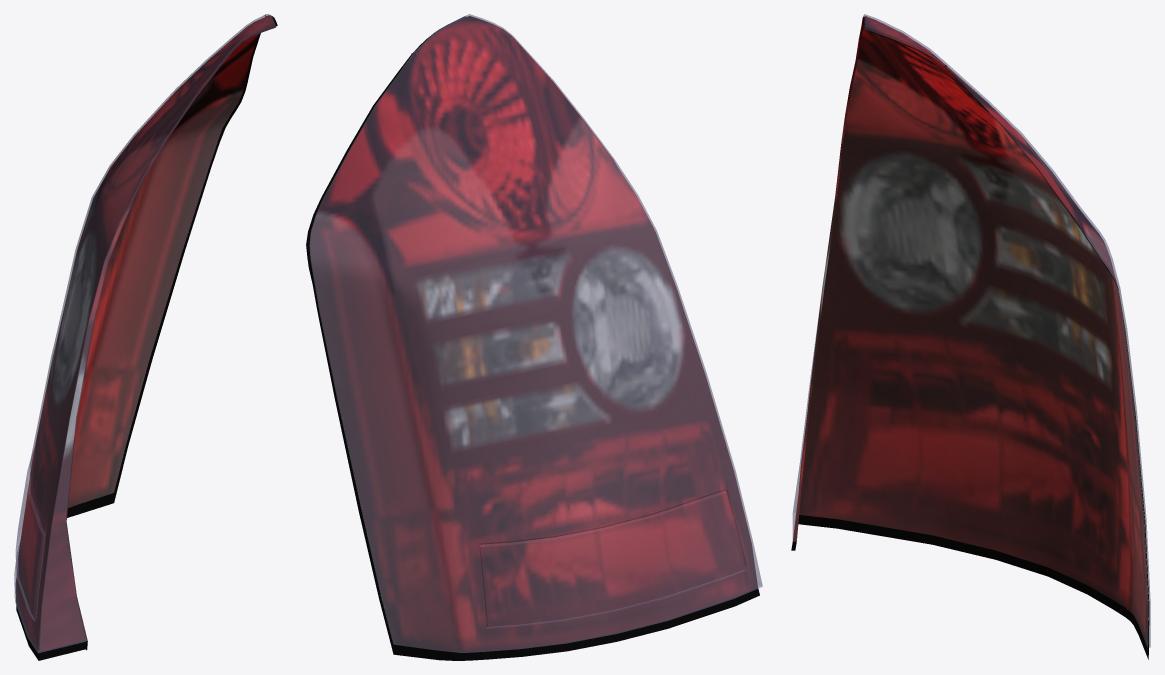
3 renders of one model, left to right at view 1: azimuth 30°, elevation 25°; view 2: azimuth 150°, elevation 25°; view 3: azimuth 270°, elevation 25°, orthographic. The views are drawn at different scales.
Visible parts, largest first — view 1: M261_541C_L_M261_541C_L_2_N, M261_541C_L_M261_541C_L_1_DTaSI, M261_541C_L_3_D_M261_541C_L; view 2: M261_541C_L_M261_541C_L_1_DTaSI, M261_541C_L_M261_541C_L_2_N, M261_541C_L_3_D_M261_541C_L; view 3: M261_541C_L_M261_541C_L_2_N, M261_541C_L_M261_541C_L_1_DTaSI, M261_541C_L_3_D_M261_541C_L.
Part boxes in pixels (x1=…): M261_541C_L_M261_541C_L_2_N: x1=17, y1=16, x2=275, y2=651; M261_541C_L_M261_541C_L_1_DTaSI: x1=14, y1=14, x2=275, y2=653; M261_541C_L_3_D_M261_541C_L: x1=16, y1=15, x2=277, y2=660; M261_541C_L_M261_541C_L_1_DTaSI: x1=309, y1=14, x2=762, y2=652; M261_541C_L_M261_541C_L_2_N: x1=310, y1=16, x2=757, y2=651; M261_541C_L_3_D_M261_541C_L: x1=306, y1=16, x2=759, y2=660; M261_541C_L_M261_541C_L_2_N: x1=792, y1=16, x2=1148, y2=647; M261_541C_L_M261_541C_L_1_DTaSI: x1=792, y1=14, x2=1150, y2=647; M261_541C_L_3_D_M261_541C_L: x1=791, y1=30, x2=1149, y2=659.
Bounding box in the file's own units: 25.08 × 39.87 × 19.73.
